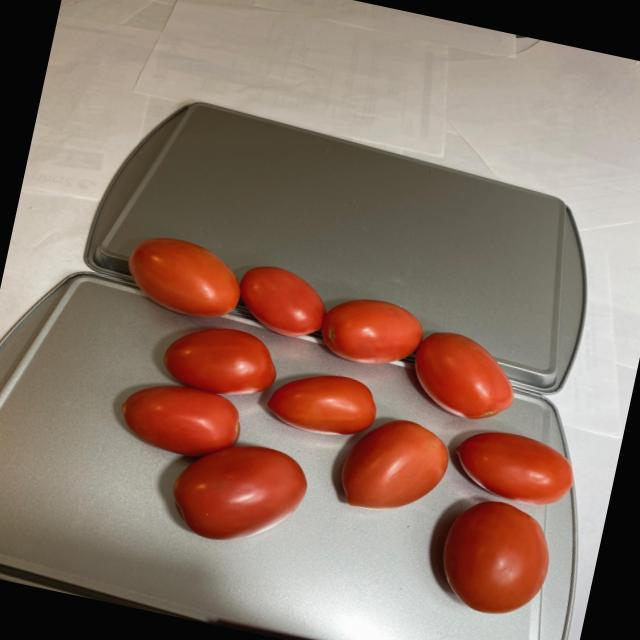tomato: (65, 226, 605, 618)
